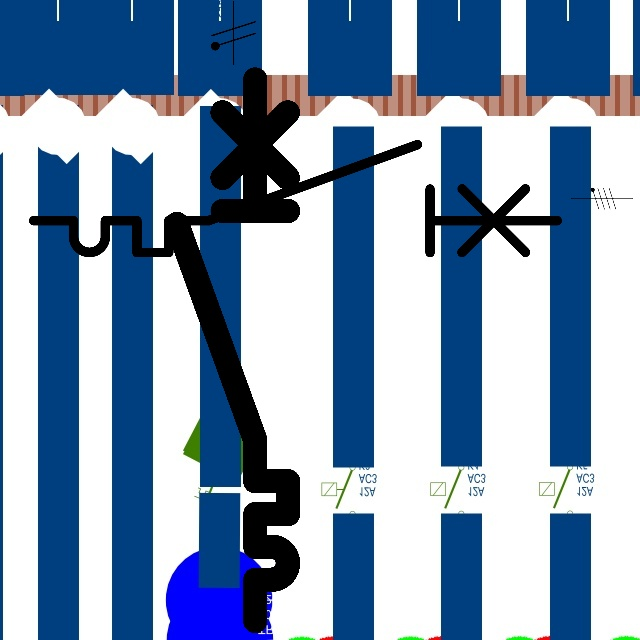interruptor_termomagnetico: (163, 65, 302, 634), (20, 131, 570, 266)
